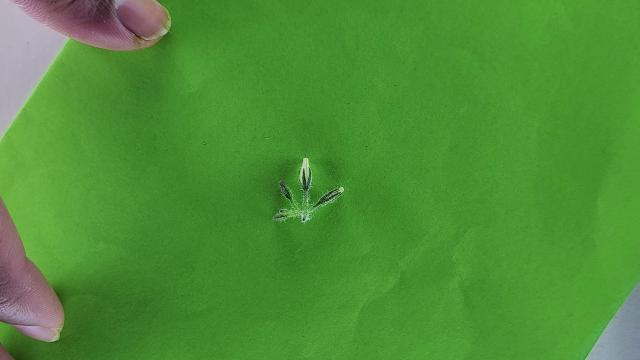Flower Bud: (312, 186, 344, 209), (298, 158, 312, 198), (279, 180, 293, 204), (272, 212, 291, 221)
